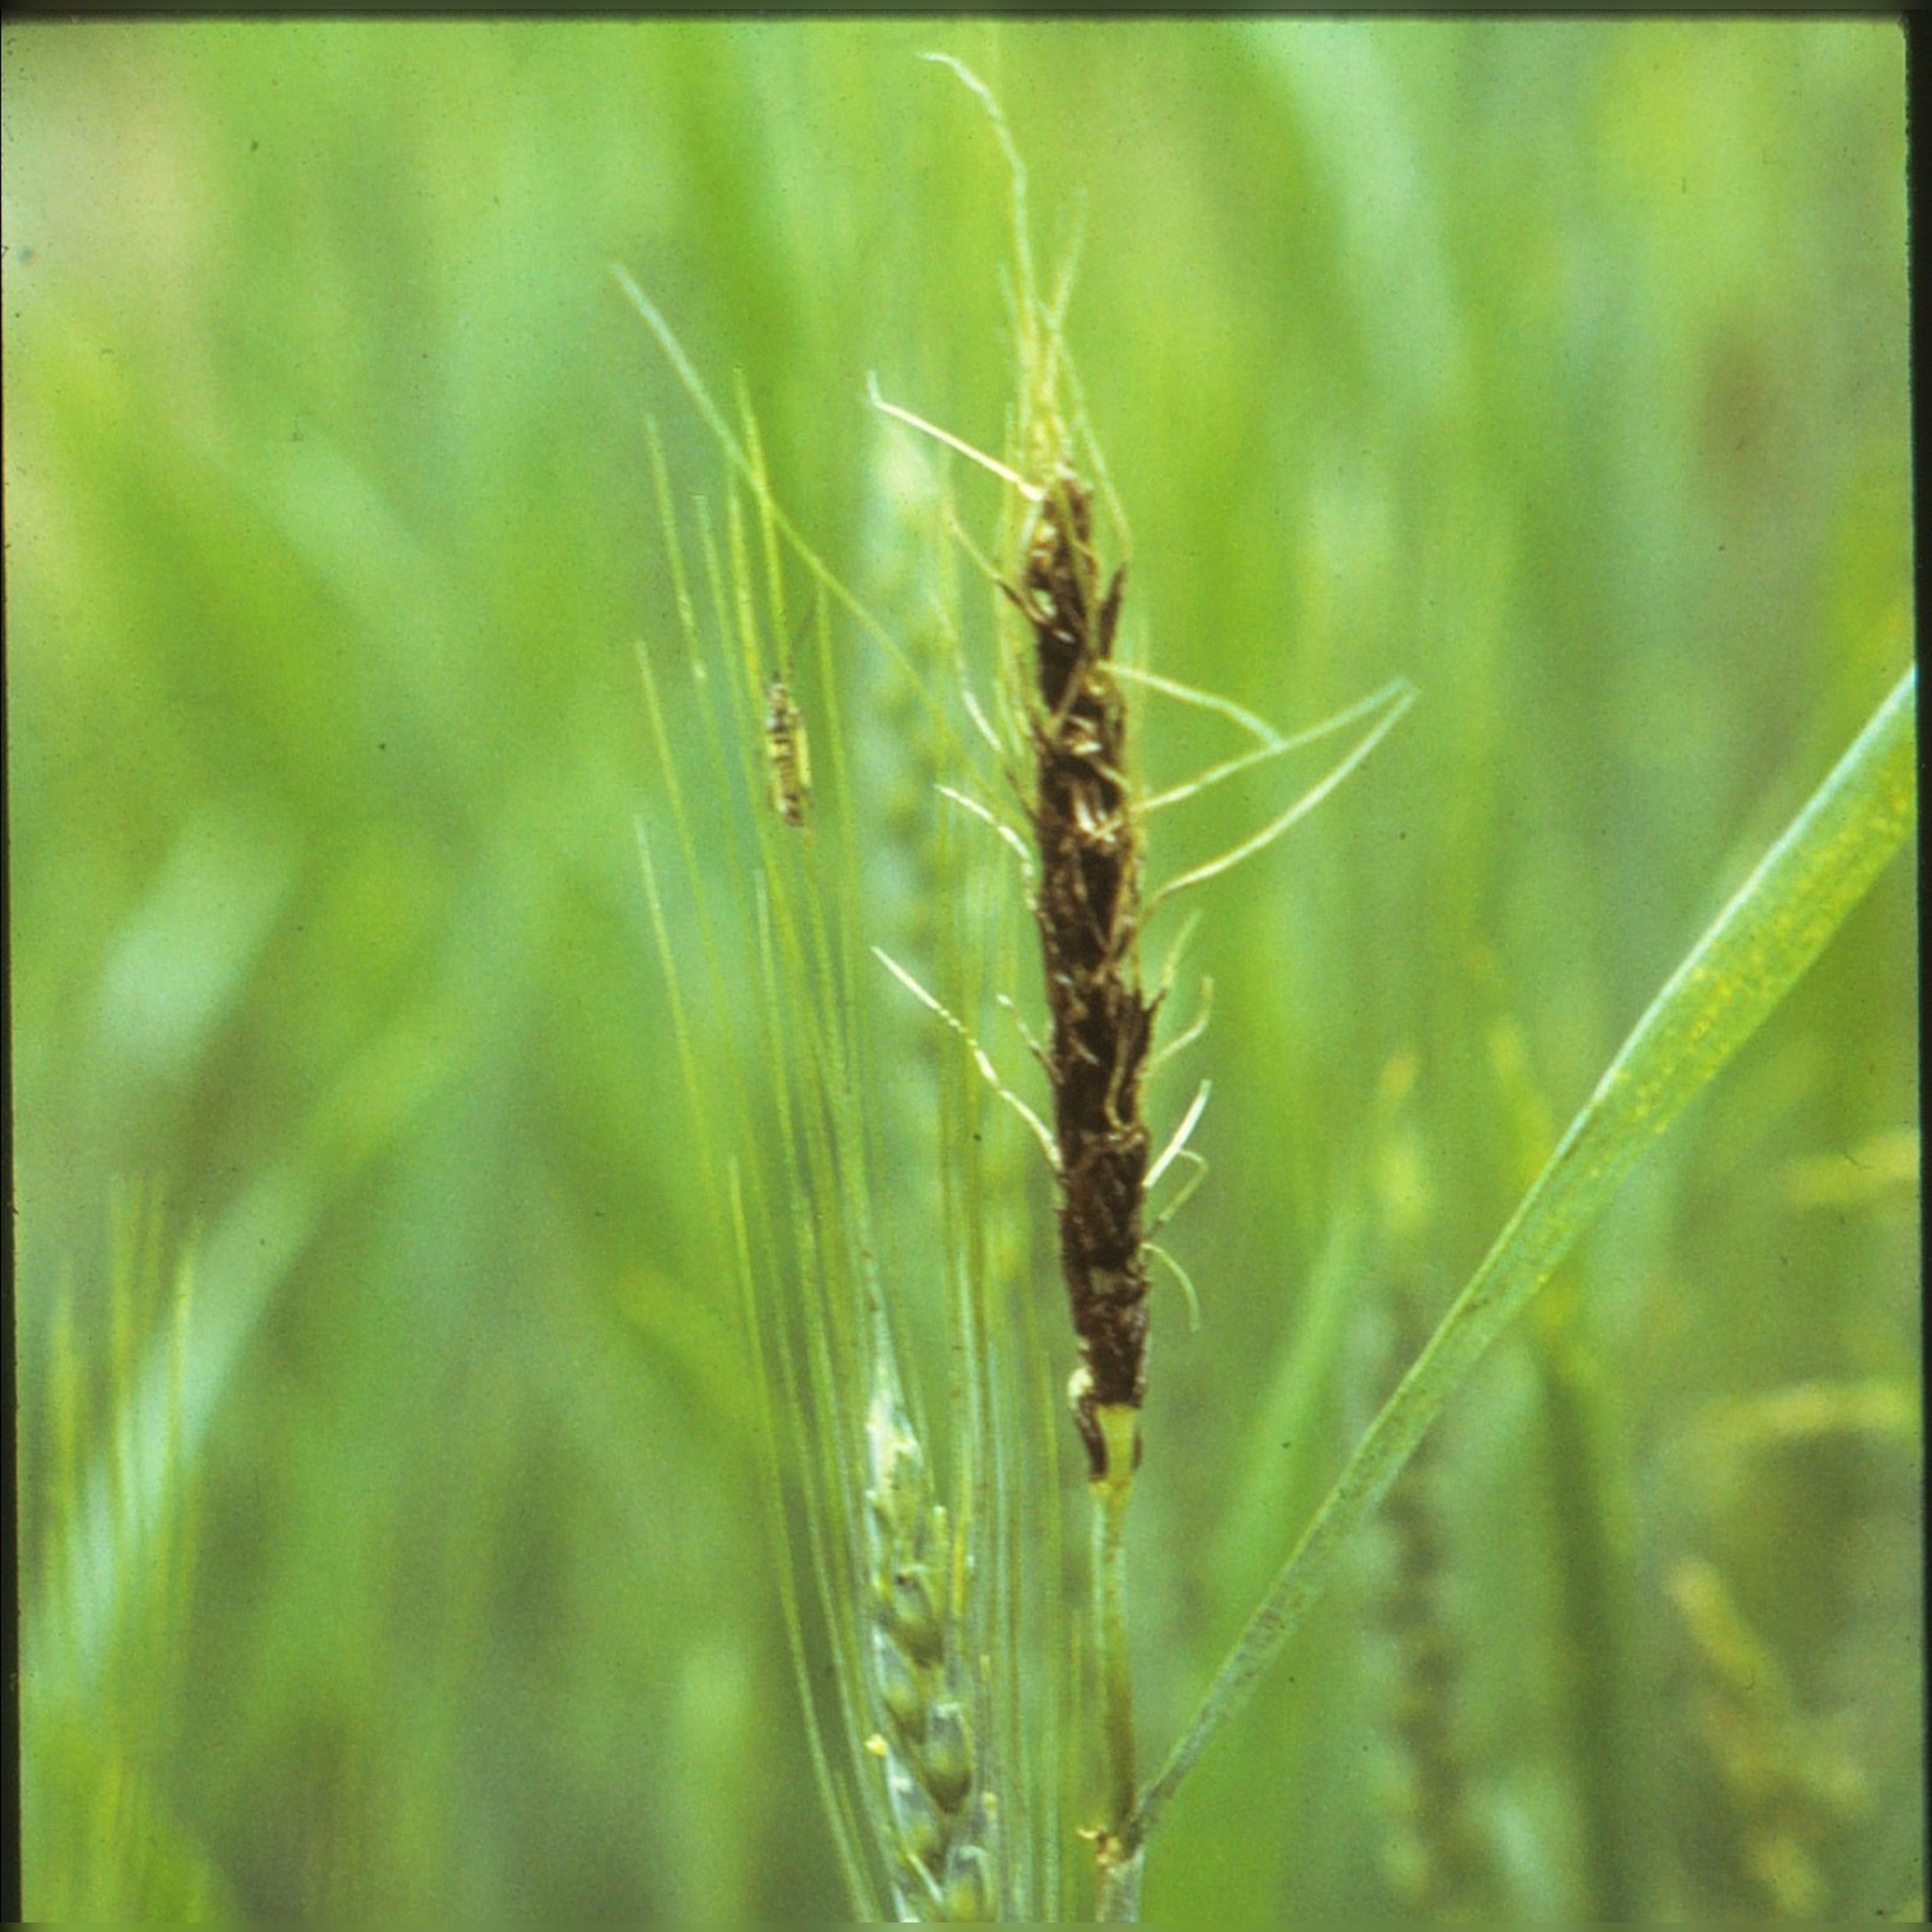Wheat Loose Smut: (934, 446, 1194, 1410)
